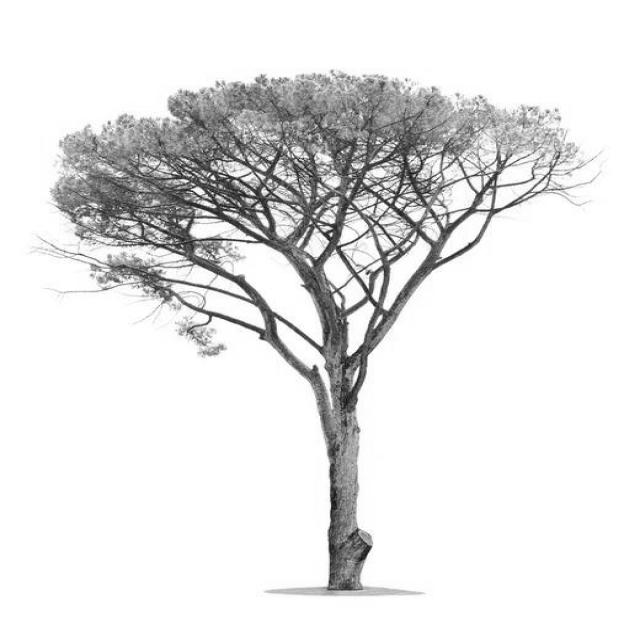Tree: (47, 74, 594, 596)
